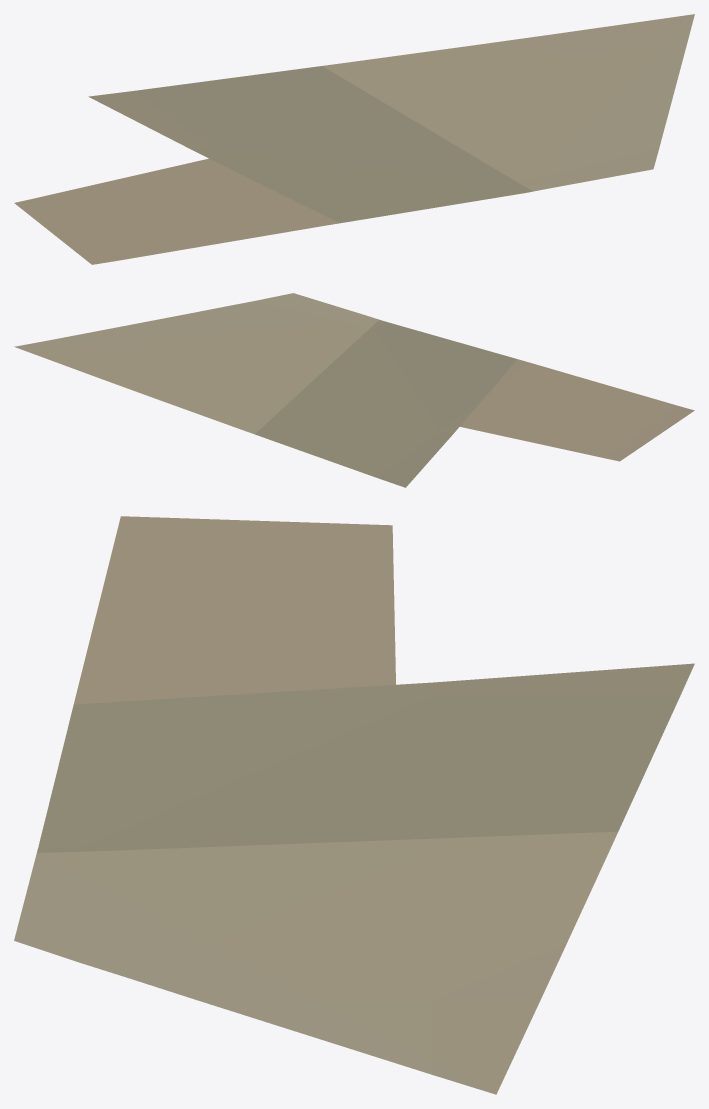
The model's file is farm_14_11_soil.glb.
3 renders of one model, top to bottom at view 1: azimuth 30°, elevation 25°; view 2: azimuth 150°, elevation 25°; view 3: azimuth 270°, elevation 25°, orthographic. The views are drawn at different scales.
Visible parts, largest first — view 1: geometry_0; view 2: geometry_0; view 3: geometry_0.
Part boxes in pixels (x1=…): geometry_0: x1=14, y1=14, x2=694, y2=264; geometry_0: x1=14, y1=293, x2=694, y2=487; geometry_0: x1=14, y1=516, x2=694, y2=1094.
Size of the model in its own units: 301 by 4.49 by 155.
